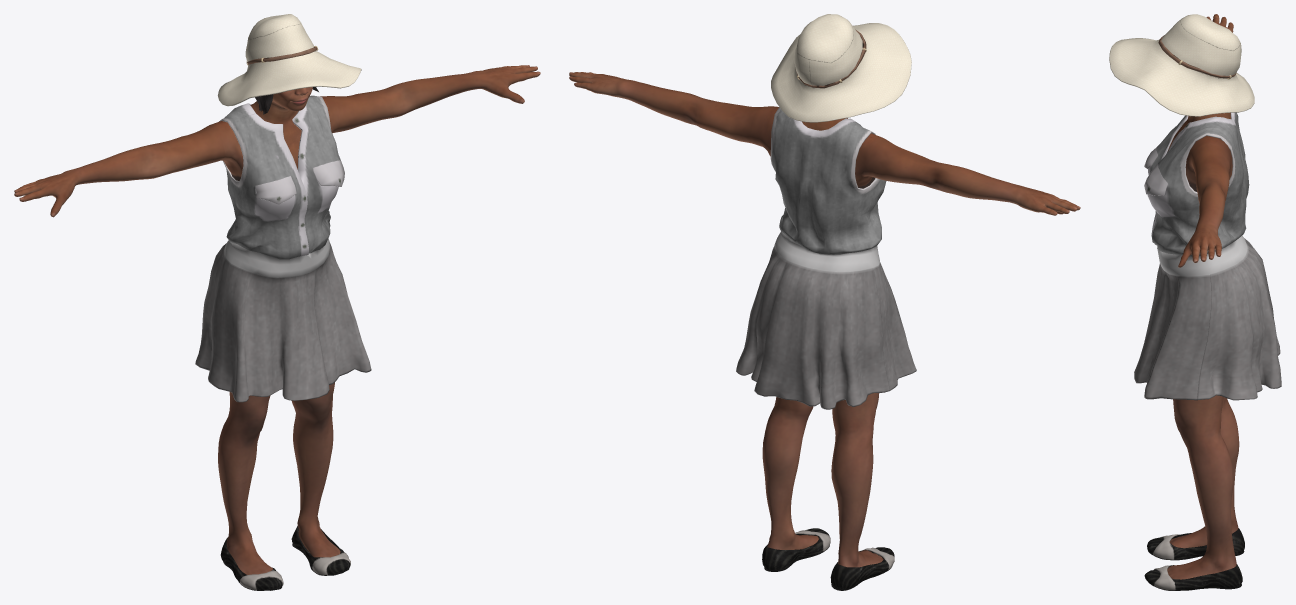
File: woman-dark-skirt-obj.obj
3 renders of one model, left to right at view 1: azimuth 30°, elevation 25°; view 2: azimuth 150°, elevation 25°; view 3: azimuth 270°, elevation 25°, orthographic.
Parts seen in each view (by area): view 1: Tops, Body, Hats, Shoes; view 2: Tops, Body, Hats, Shoes; view 3: Tops, Body, Hats, Shoes.
Boxes of the visible parts, box(x1,y1,x2,y2) form: Tops: box(195, 95, 371, 402); Body: box(14, 65, 540, 574); Hats: box(217, 14, 361, 106); Shoes: box(220, 526, 350, 590); Tops: box(736, 107, 916, 409); Body: box(569, 72, 1080, 567); Hats: box(771, 14, 911, 122); Shoes: box(762, 528, 894, 590); Tops: box(1134, 112, 1281, 400); Body: box(1167, 14, 1239, 579); Hats: box(1109, 14, 1254, 116); Shoes: box(1144, 528, 1244, 590).
Bounding box in the file's own units: 166 × 170 × 48.11.
